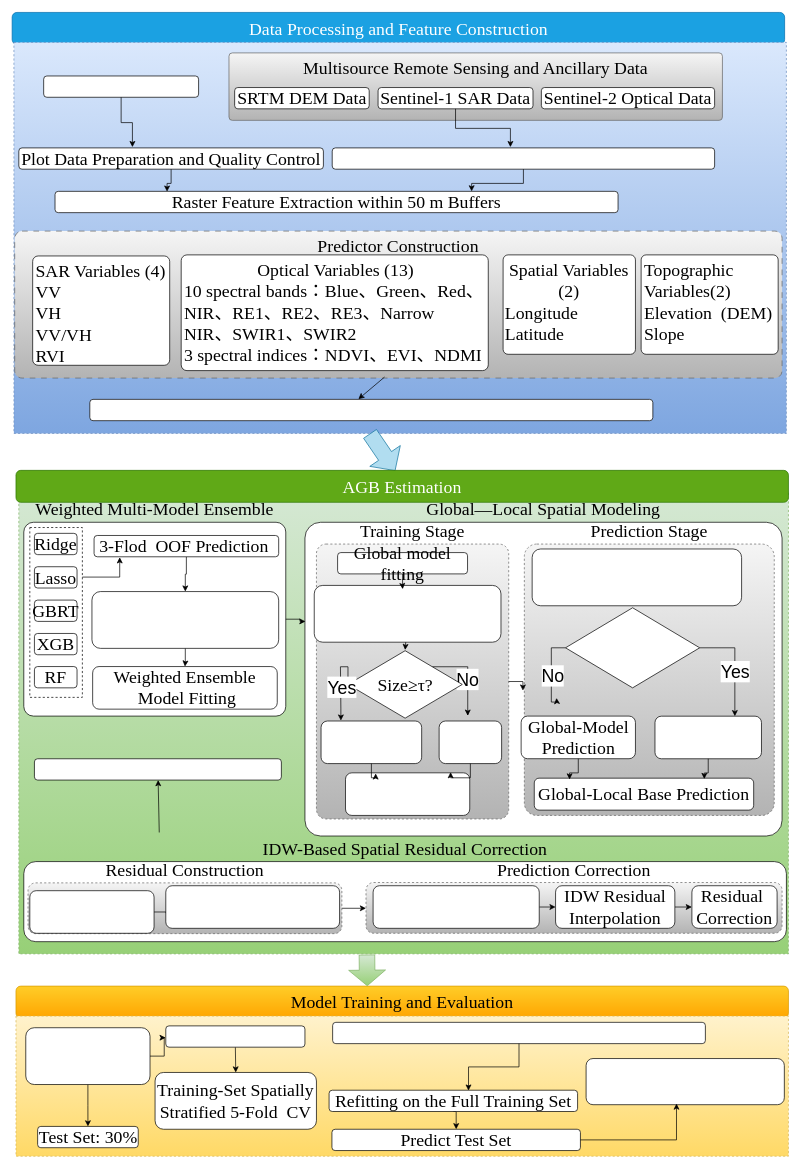
This 802x1169 diagram has some shape labels left out. The centre of each missing label's shape, as x and y in pixels:
"Assignment of Prediction Samples to Modeling Spatial Clusters" belongs at (636,577).
"Data preprocessing and Sentinel Temporal Matching" belongs at (523,158).
"Final AGB Prediction" belongs at (157,769).
"Global Fallback" belongs at (470,742).
"Global-Local OOF Prediction" belongs at (407,793).
"Local Model Exists?" belongs at (632,647).
"Local Model Fitting" belongs at (371,742).
"Local-Model Prediction" belongs at (707,737).
"Model Comparison and Configuration Selection" belongs at (518,1033).
"Modeling Cluster Construction From Training Coordinates" belongs at (407,613).
"Modeling Dataset Construction" belongs at (371,410).
"Neighboring Residual Retrieval(k=15)" belongs at (455,906).
"OOF Residual Calculation" belongs at (91,911).
"Performance Evaluation R²、RMSE、MAE、Bias" belongs at (684,1081).
"Plot-level AGB Data" belongs at (121,86).
"Spatial Stratified 7:3 Split" belongs at (87,1056).
"Training Residual Database Construction" belongs at (252,906).
"Training Set : 70%" belongs at (235,1036).
"Weight Optimization Nonnegative ，Unit-Sum Weight" belongs at (185,619).
